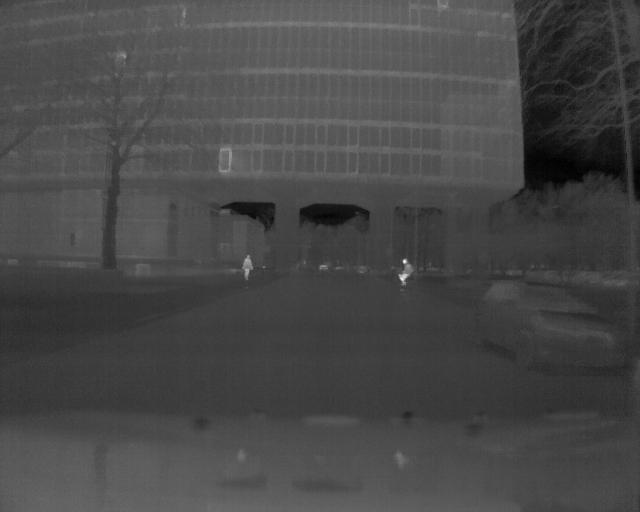car: (472, 274, 626, 374)
person: (396, 257, 414, 295), (241, 255, 254, 284)
